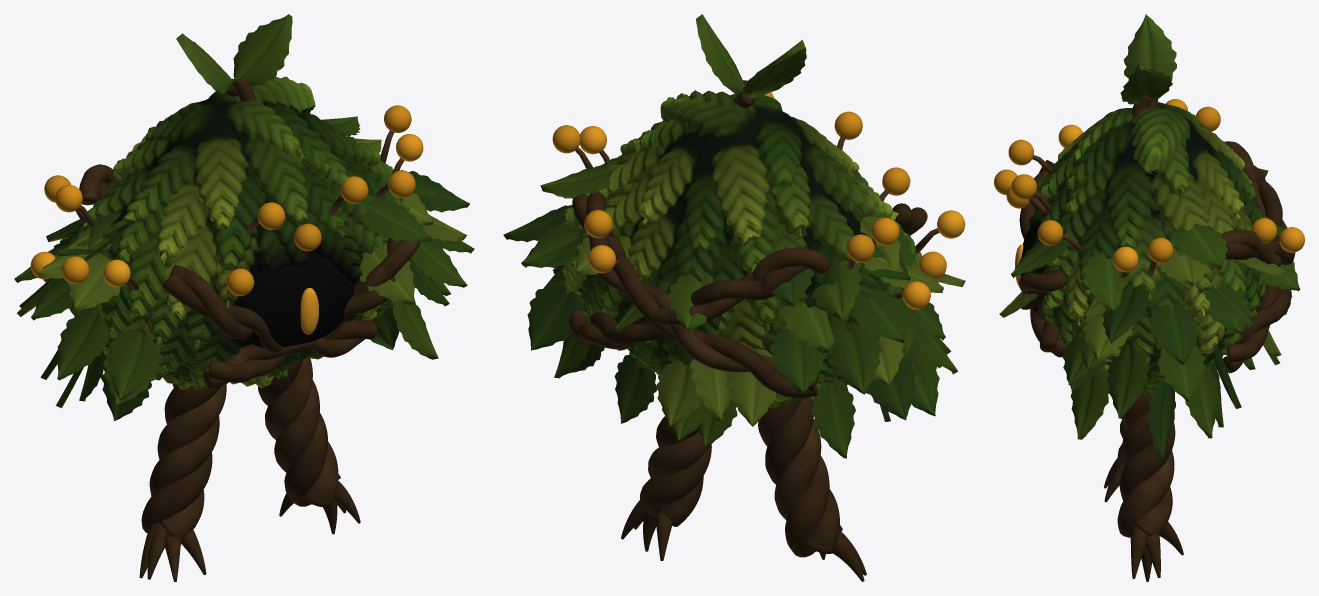
File: briarling-sculpt.glb
The picture shows the model from 3 angles, left to right: view 1: azimuth 30°, elevation 25°; view 2: azimuth 150°, elevation 25°; view 3: azimuth 270°, elevation 25°; orthographic projection. The views are drawn at different scales.
Visible parts, largest first — view 1: briarling_sculpt; view 2: briarling_sculpt; view 3: briarling_sculpt.
Part boxes in pixels (x1=…): briarling_sculpt: x1=14, y1=14, x2=474, y2=581; briarling_sculpt: x1=503, y1=14, x2=965, y2=581; briarling_sculpt: x1=994, y1=14, x2=1304, y2=581.
Size of the model in its own units: 0.5238 by 0.6421 by 0.3625.
